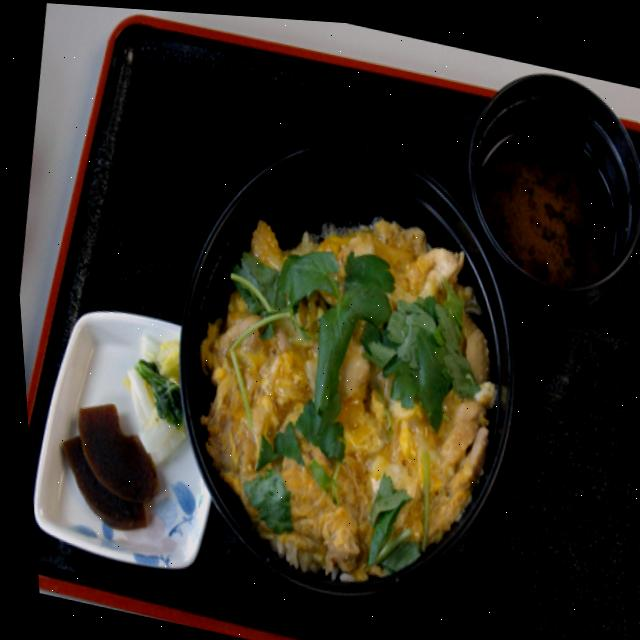米饭主食: (126, 98, 565, 640)
